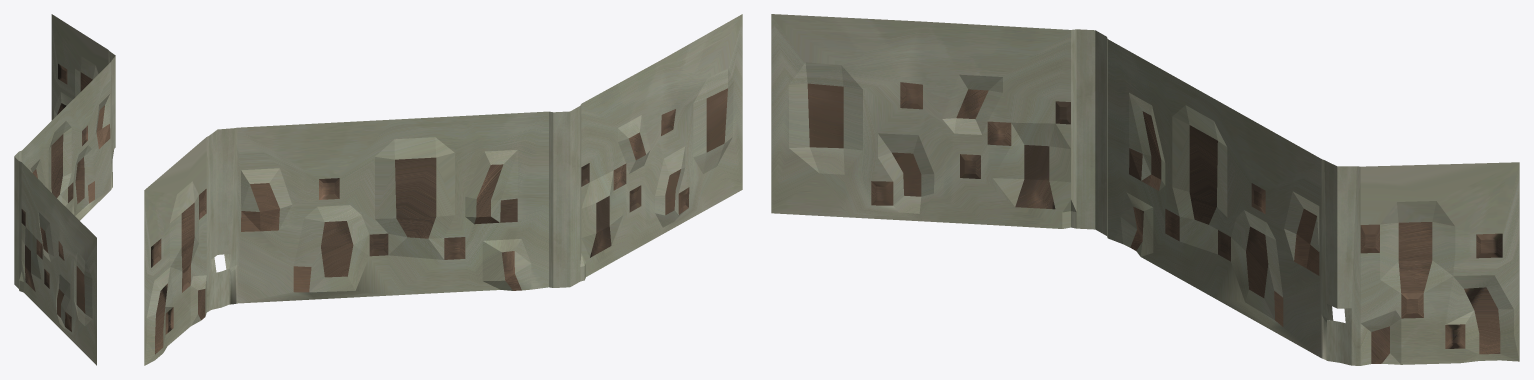
Rendered from SM_ENV_KNFRST_Wall_B_COL.FBX.
3 renders of one model, left to right at view 1: azimuth 30°, elevation 25°; view 2: azimuth 150°, elevation 25°; view 3: azimuth 270°, elevation 25°, orthographic. The views are drawn at different scales.
Parts seen in each view (by area): view 1: SM_ENV_KNFRST_Wall_B_COL; view 2: SM_ENV_KNFRST_Wall_B_COL; view 3: SM_ENV_KNFRST_Wall_B_COL.
Boxes of the visible parts, box(x1,y1,x2,y2) form: SM_ENV_KNFRST_Wall_B_COL: box(14, 14, 115, 365); SM_ENV_KNFRST_Wall_B_COL: box(144, 14, 742, 365); SM_ENV_KNFRST_Wall_B_COL: box(771, 14, 1519, 365).
Size of the model in its own units: 4758 by 2878 by 9780.
